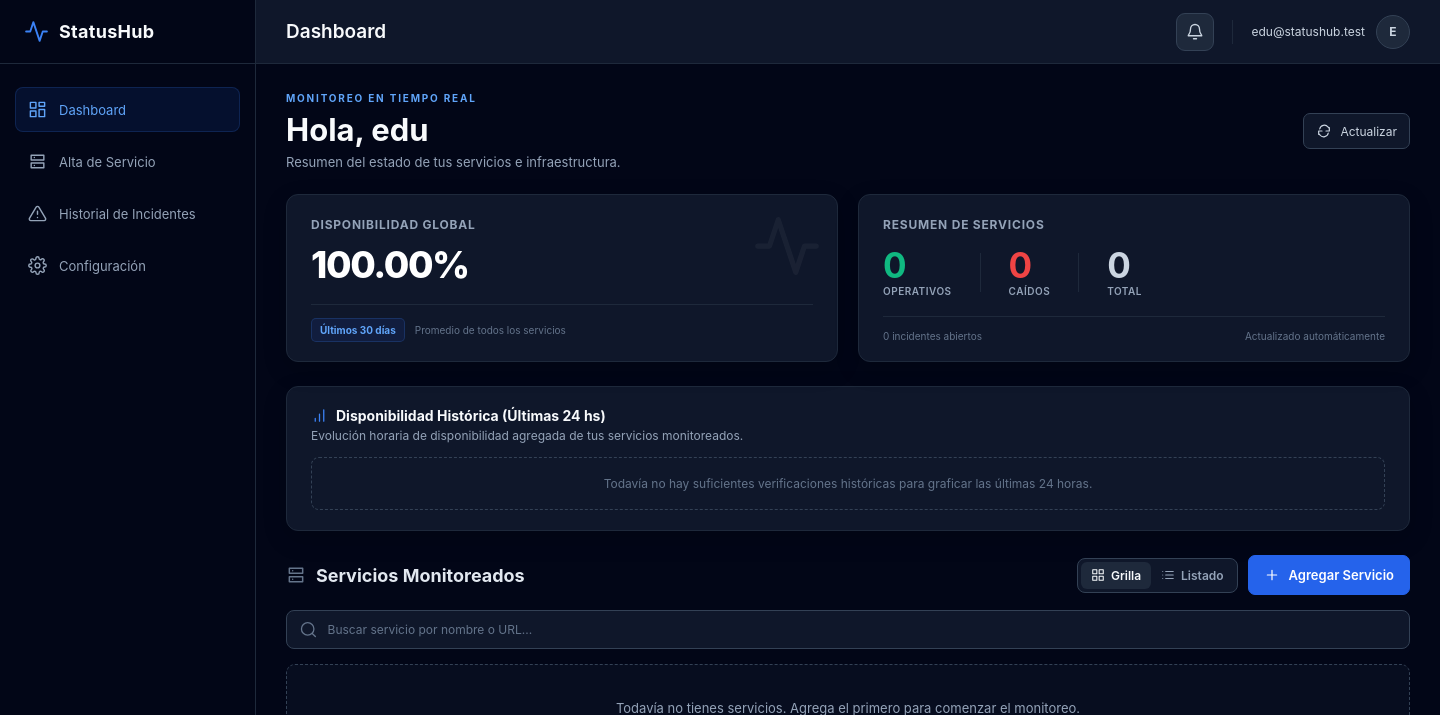
Configuración — Página pública obligatoria, preferencias, cambio de contraseña y baja de cuenta › persiste preferencias del panel en localStorage y valida el cambio de contraseña
Click the button "Configuración" at (128, 266), box 15,243 -> 240,288
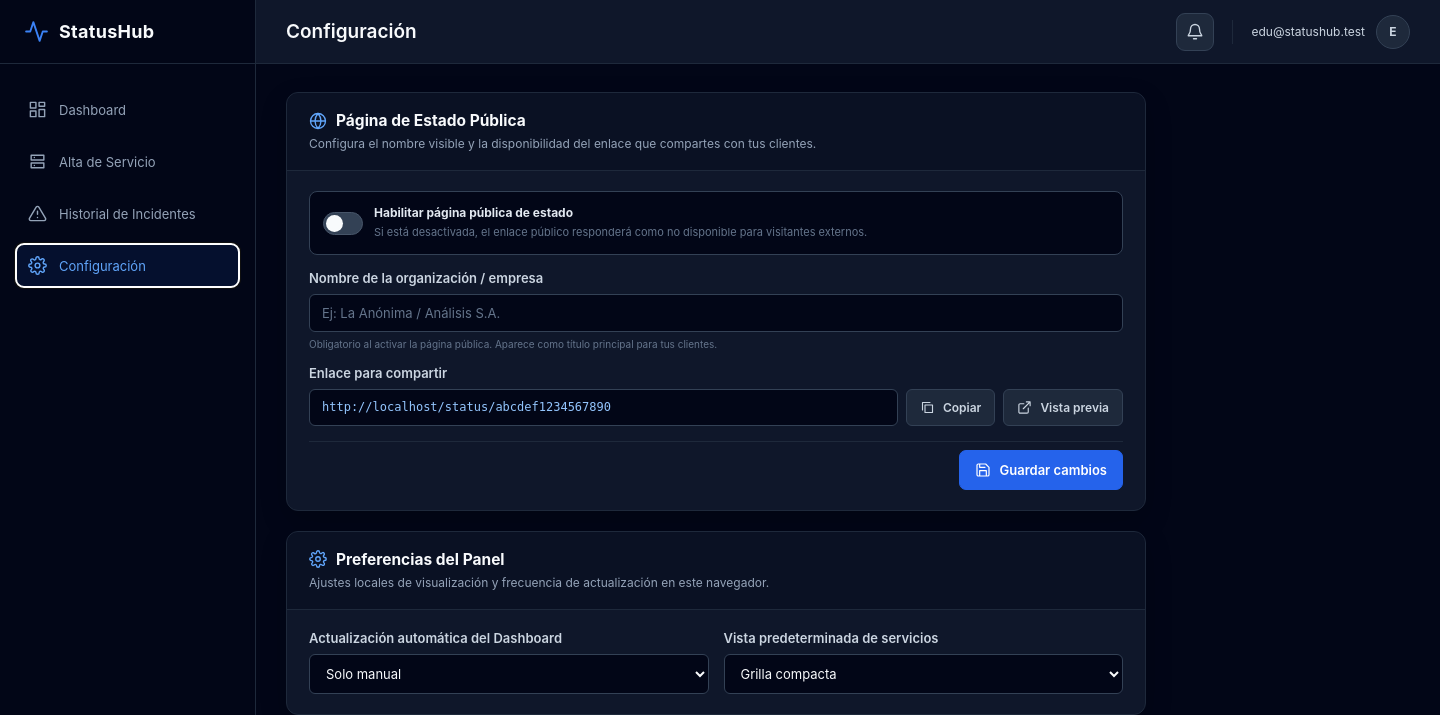
Select "Cada 60 segundos" in the dropdown labelled "Actualización automática del Dashboard" at (509, 674), box 309,654 -> 708,694
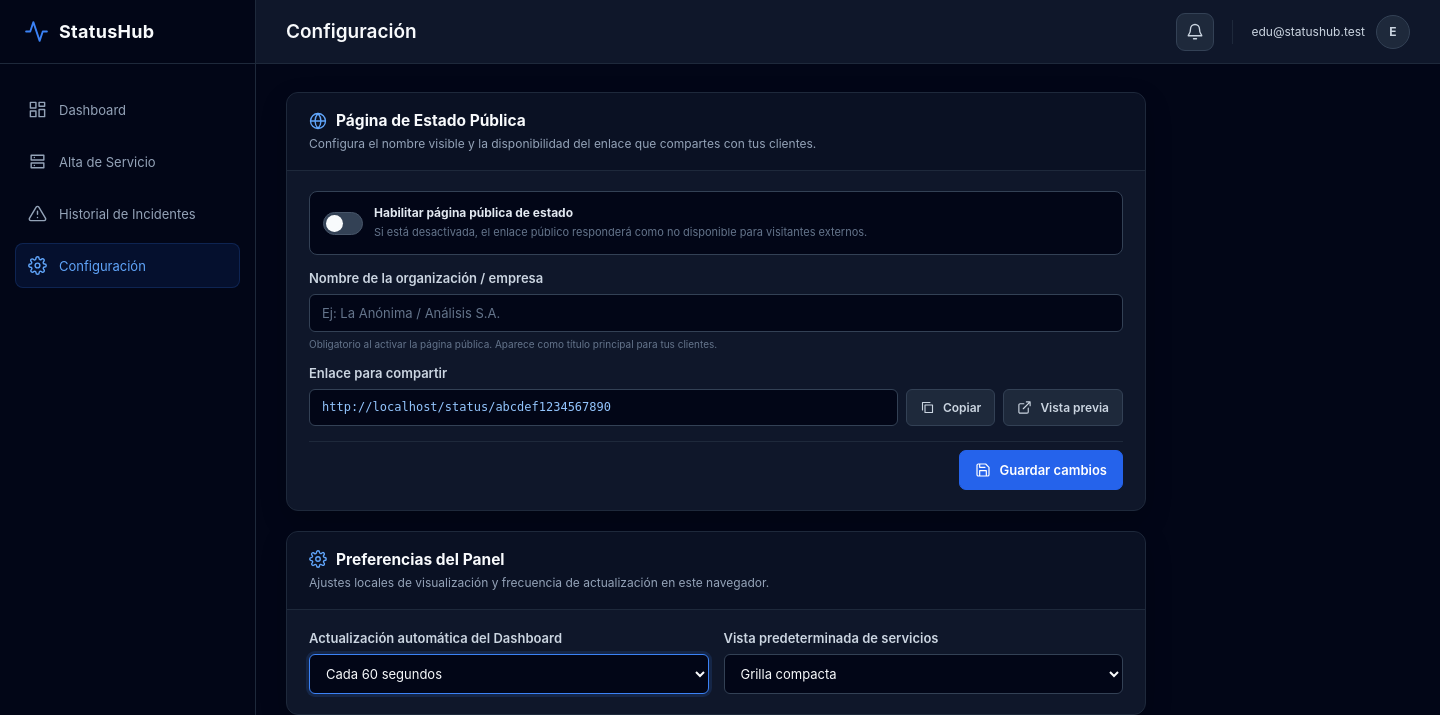
Select "Listado" in the dropdown labelled "Vista predeterminada de servicios" at (923, 674), box 724,654 -> 1123,694
(page scrolled)
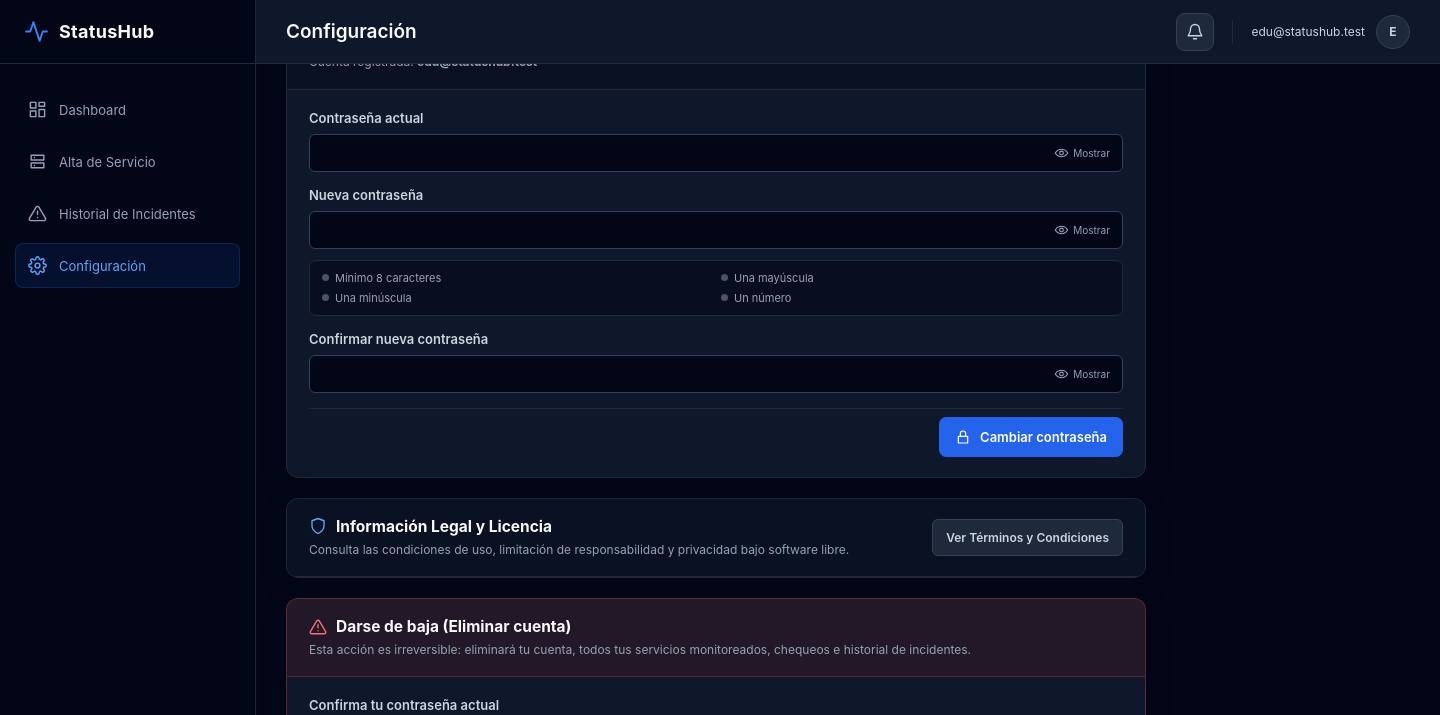
# Validación de cambio de contraseña con campos vacíos
Click the button "Cambiar contraseña" at (1031, 437), box 939,417 -> 1123,457
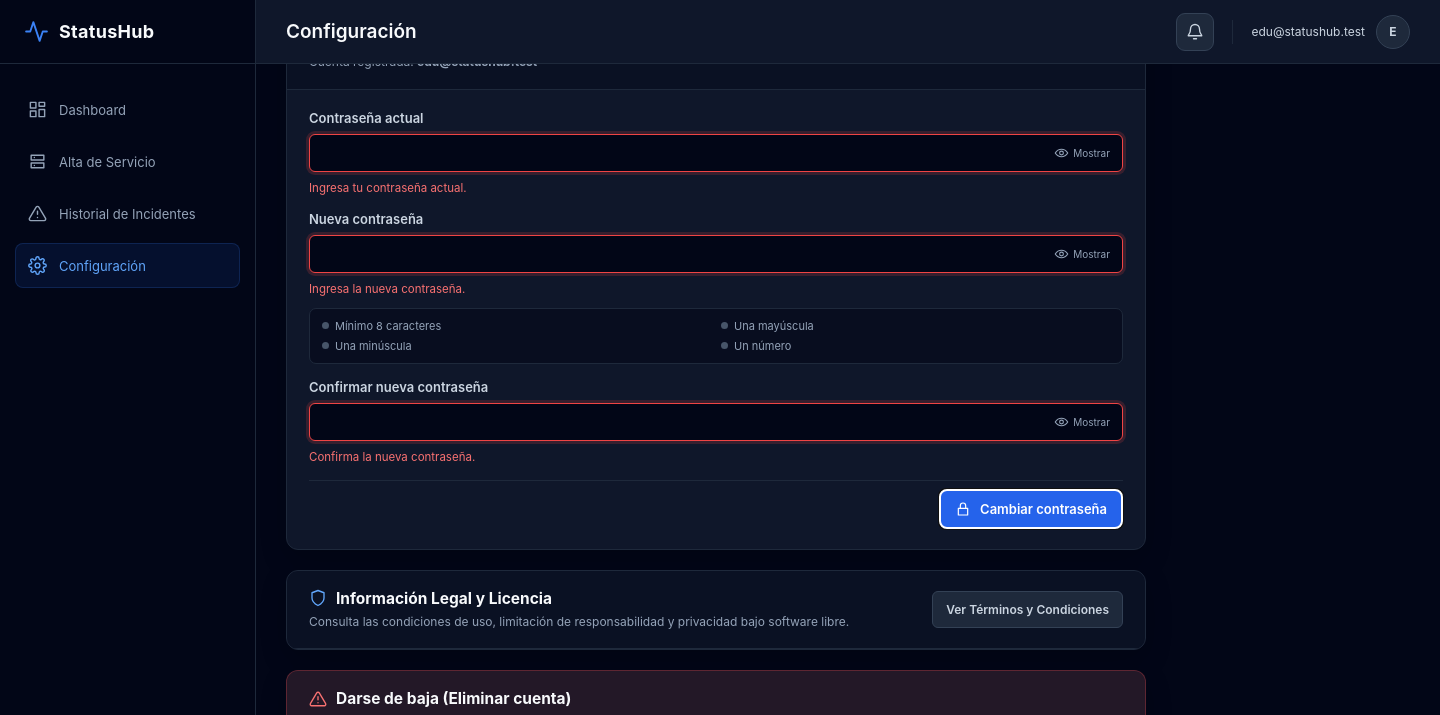
Result: the text "Ingresa tu contraseña actual." is shown at 309,181 -> 467,195
Result: the text "Ingresa la nueva contraseña." is shown at 309,282 -> 465,296
